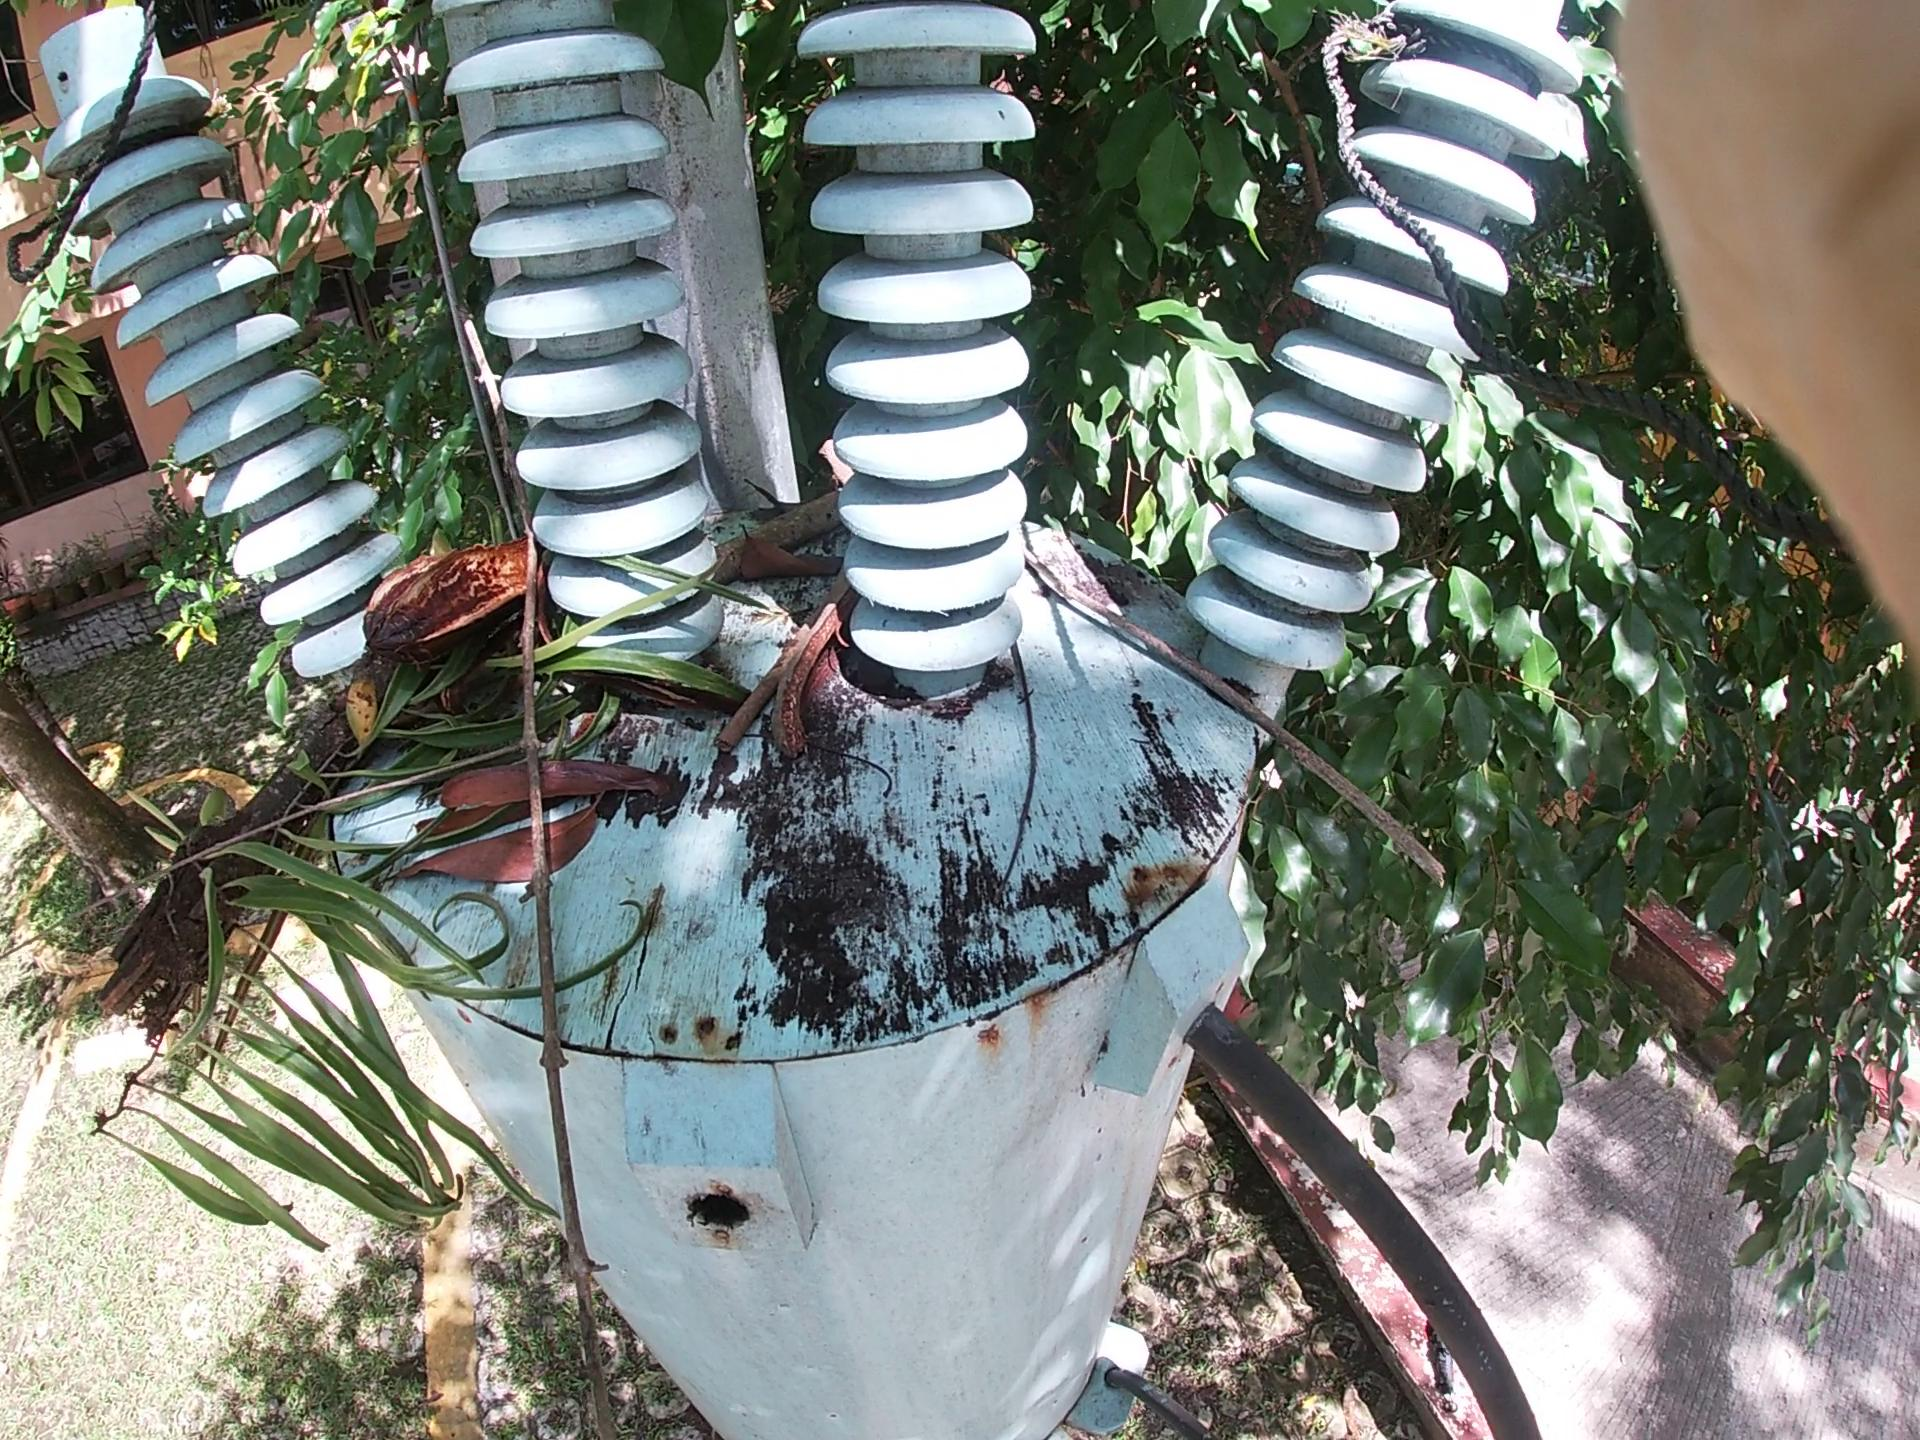branch with leaves: (145, 289, 605, 992)
leaf: (361, 753, 561, 873)
mahogany fruit: (739, 469, 1011, 768), (342, 440, 537, 725)
tree branch: (1037, 523, 1640, 924), (389, 678, 754, 971), (736, 408, 937, 712), (630, 466, 853, 573)
